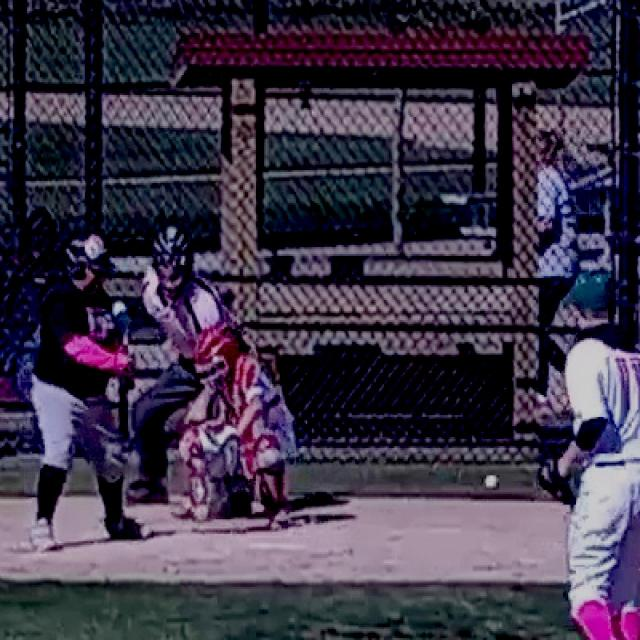baseball: (485, 476, 499, 488)
